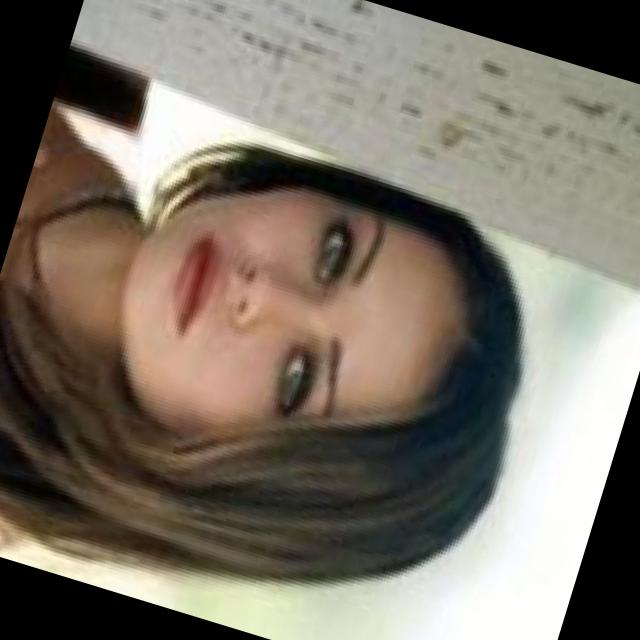bareface: (90, 121, 504, 520)
